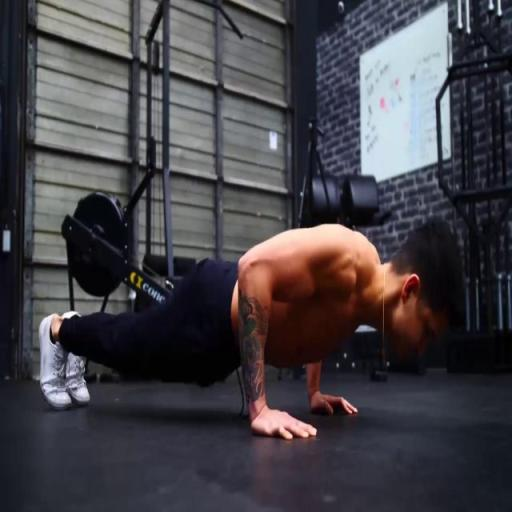Normal_Dips: (2, 0, 512, 493)
